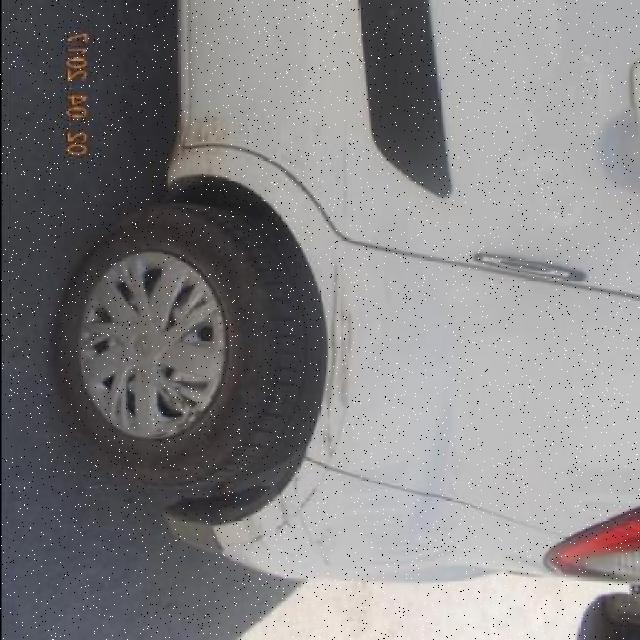damage: (222, 463, 333, 554), (326, 254, 358, 427), (272, 473, 333, 560), (166, 109, 239, 178), (331, 118, 356, 224), (320, 431, 340, 457)
